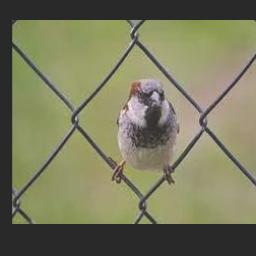Sparrow: (116, 78, 179, 173)
